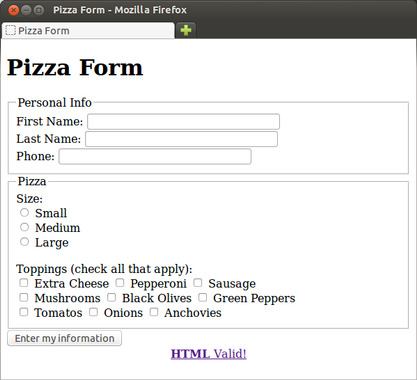_form_: (1, 51, 299, 380)
button: (6, 329, 123, 346)
checkbox: (17, 291, 30, 304), (18, 305, 30, 319), (18, 276, 30, 289), (114, 276, 126, 289), (191, 277, 204, 289), (87, 306, 99, 319), (198, 291, 209, 305), (105, 292, 117, 304), (148, 307, 160, 319)
checkbox_with_label: (196, 290, 295, 306), (17, 275, 109, 290), (106, 289, 191, 305), (17, 290, 100, 306), (147, 305, 223, 320), (113, 275, 186, 290), (17, 304, 82, 320), (190, 276, 256, 291), (87, 305, 143, 320)
field: (56, 148, 254, 167), (85, 113, 279, 131), (83, 131, 280, 148)
field_with_label: (17, 112, 281, 132), (16, 147, 255, 168), (17, 130, 281, 149)
radio: (18, 235, 31, 249), (19, 220, 30, 234), (18, 207, 30, 219)
radio_with_label: (17, 220, 80, 236), (16, 234, 69, 251), (17, 205, 69, 220)
